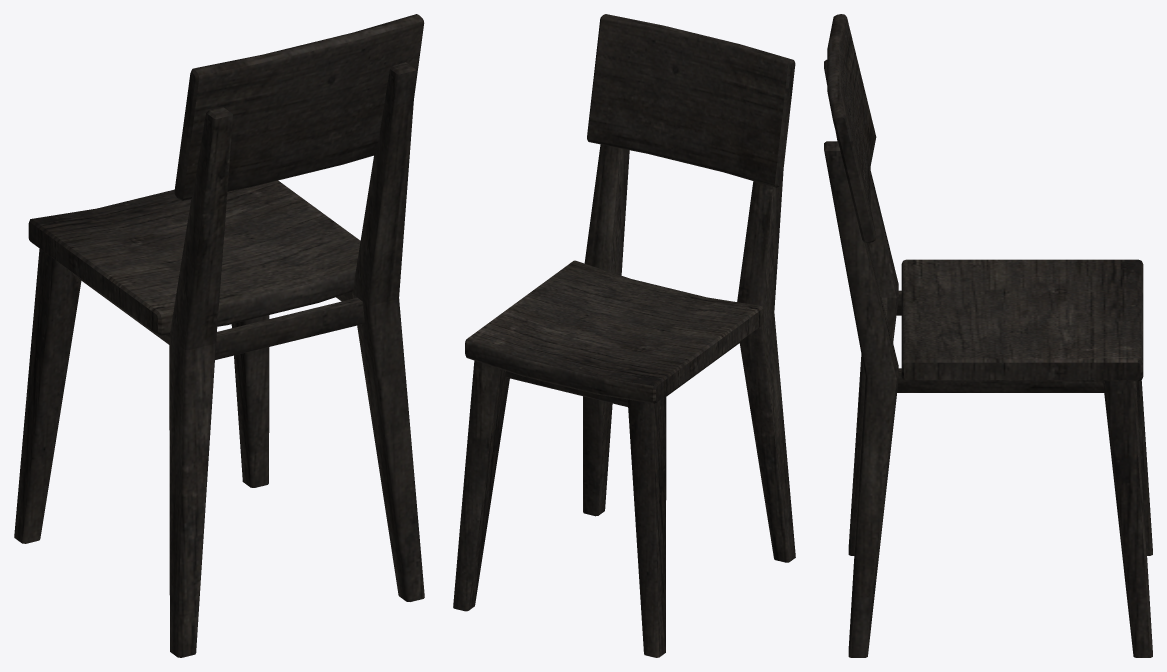
Rendered from chair_wooden_1.obj.
The picture shows the model from 3 angles, left to right: view 1: azimuth 30°, elevation 25°; view 2: azimuth 150°, elevation 25°; view 3: azimuth 270°, elevation 25°; orthographic projection. The views are drawn at different scales.
Visible parts, largest first — view 1: chair_wooden_1; view 2: chair_wooden_1; view 3: chair_wooden_1.
Boxes of the visible parts, x1,y1,x2,y2 form: chair_wooden_1: (14, 14, 424, 657); chair_wooden_1: (453, 14, 795, 657); chair_wooden_1: (824, 14, 1152, 657).
Bounding box in the file's own units: 0.54 × 1.23 × 0.6805.
